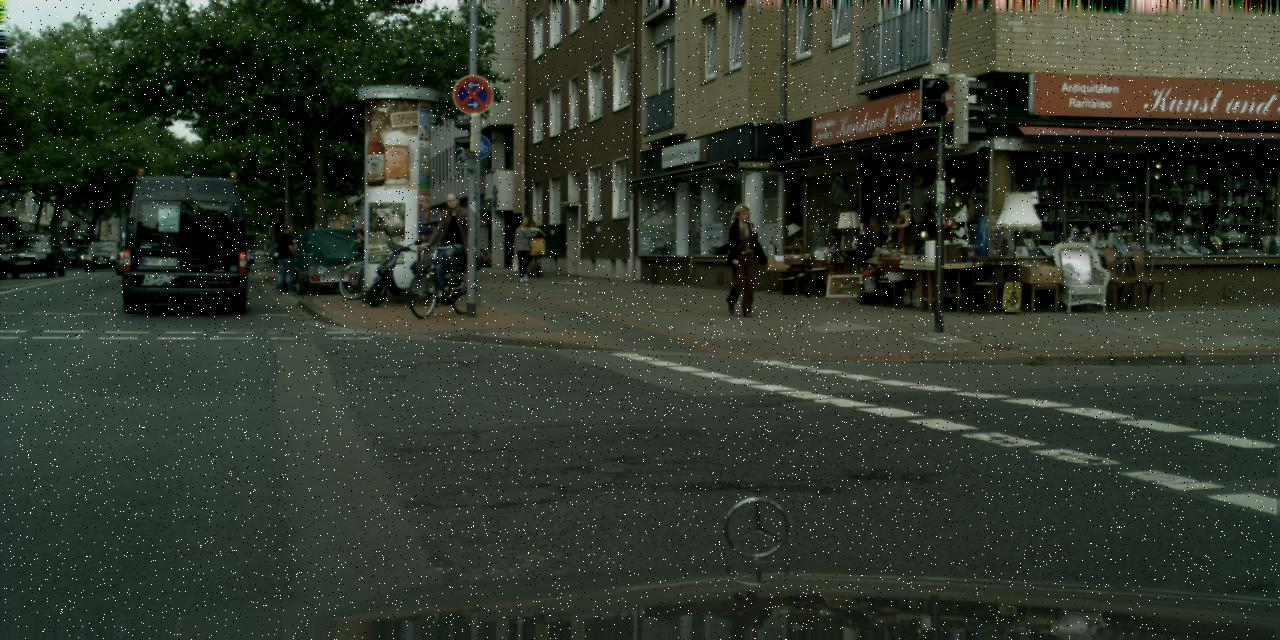ped: (718, 205, 762, 312), (430, 193, 470, 292), (272, 223, 300, 292), (510, 216, 536, 280), (520, 220, 542, 275)
